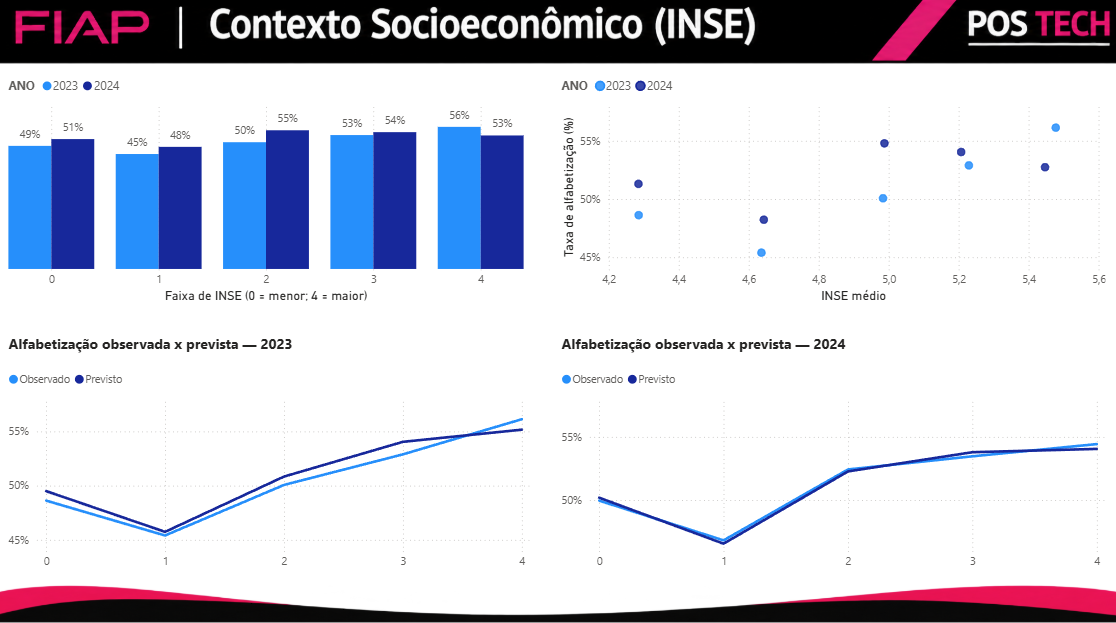

What the dashboard file says about the page in this screenshot:
{"tool":"powerbi","page":{"name":"Contexto socioeconômico","canvas":[1280,720],"ordinal":3},"visuals":[{"type":"clusteredColumnChart","title":"Alfabetização por faixa de INSE — 2023 e 2024","fields":{"Category":["INSE_Por_Faixa_Ano.faixa"],"Series":["INSE_Por_Faixa_Ano.ano_referencia"],"Y":["Avg(INSE_Por_Faixa_Ano.taxa_observada)"]},"box":[10.3,55.8,597,304.2],"z":0},{"type":"lineChart","title":"Alfabetização observada x prevista — 2023","fields":{"Category":["INSE_Por_Faixa_Ano.faixa"],"Y":["Avg(INSE_Por_Faixa_Ano.taxa_observada)","Avg(INSE_Por_Faixa_Ano.probabilidade_media)"]},"box":[10.3,390.8,604.9,276.8],"z":1000},{"type":"lineChart","title":"Alfabetização observada x prevista — 2024","fields":{"Category":["INSE_Por_Faixa_Ano.faixa"],"Y":["Avg(INSE_Por_Faixa_Ano.taxa_observada)","Avg(INSE_Por_Faixa_Ano.probabilidade_media)"]},"box":[640.3,390.8,630,276.8],"z":2000},{"type":"scatterChart","title":"Relação entre INSE e alfabetização","fields":{"Category":["INSE_Por_Faixa_Ano.faixa"],"Series":["INSE_Por_Faixa_Ano.ano_referencia"],"X":["Avg(INSE_Por_Faixa_Ano.feature_media)"],"Y":["Avg(INSE_Por_Faixa_Ano.taxa_observada)"]},"box":[640.3,55.8,630,304.2],"z":3000},{"type":"image","box":[0,676.7,1280.5,43.3],"z":4000},{"type":"image","box":[0,0,1280.5,86.6],"z":5000}]}

Visuals, with their boxes in screenshot pixels (x1, y1, x2, y2), scaled from the page's 1280x720 canvas onto the 1116x623 screenshot:
"Alfabetização por faixa de INSE — 2023 e 2024" clusteredColumnChart: {"left": 9, "top": 48, "right": 529, "bottom": 312}
"Alfabetização observada x prevista — 2023" lineChart: {"left": 9, "top": 338, "right": 536, "bottom": 578}
"Alfabetização observada x prevista — 2024" lineChart: {"left": 558, "top": 338, "right": 1108, "bottom": 578}
"Relação entre INSE e alfabetização" scatterChart: {"left": 558, "top": 48, "right": 1108, "bottom": 312}
image: {"left": 0, "top": 586, "right": 1115, "bottom": 622}
image: {"left": 0, "top": 0, "right": 1115, "bottom": 75}
